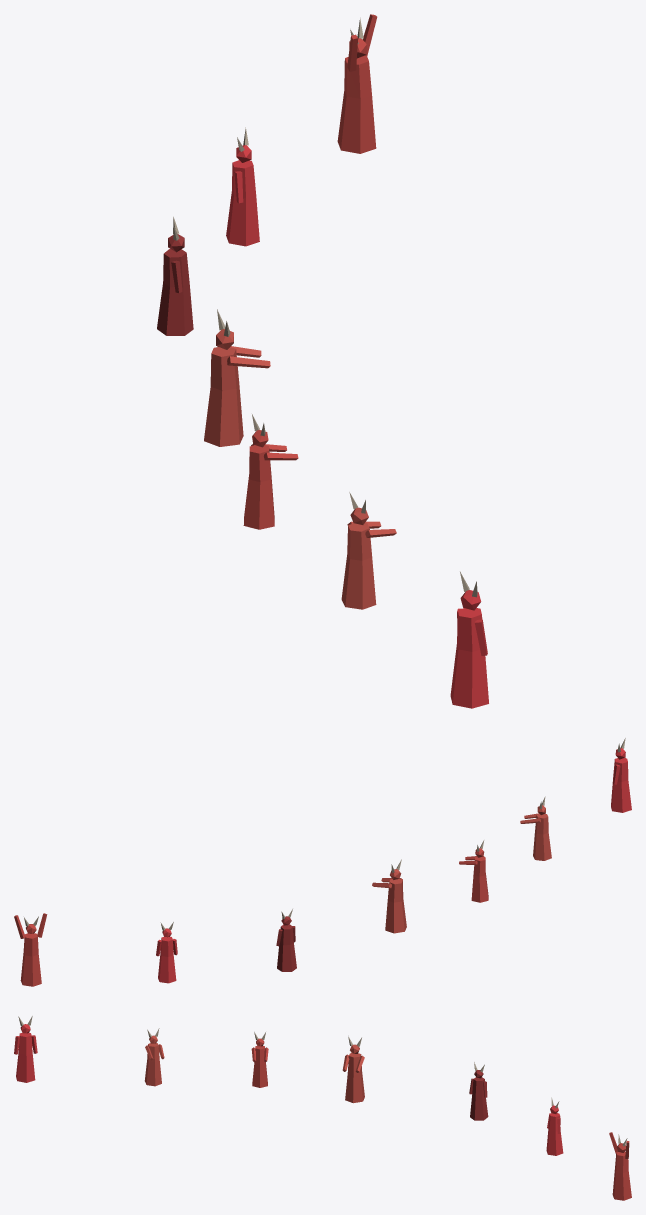
File: Stands_3_0_0.obj
3 renders of one model, top to bottom at view 1: azimuth 30°, elevation 25°; view 2: azimuth 150°, elevation 25°; view 3: azimuth 270°, elevation 25°, orthographic. The views are drawn at different scales.
Visible parts, largest first — view 1: Stands_3_0_0; view 2: Stands_3_0_0; view 3: Stands_3_0_0.
Boxes of the visible parts, x1,y1,x2,y2 form: Stands_3_0_0: (157, 14, 488, 708); Stands_3_0_0: (14, 738, 631, 986); Stands_3_0_0: (14, 1016, 631, 1200).
Bounding box in the file's own units: 14.91 × 3.39 × 30.29.
Materials: 1 (1 with a texture image).
